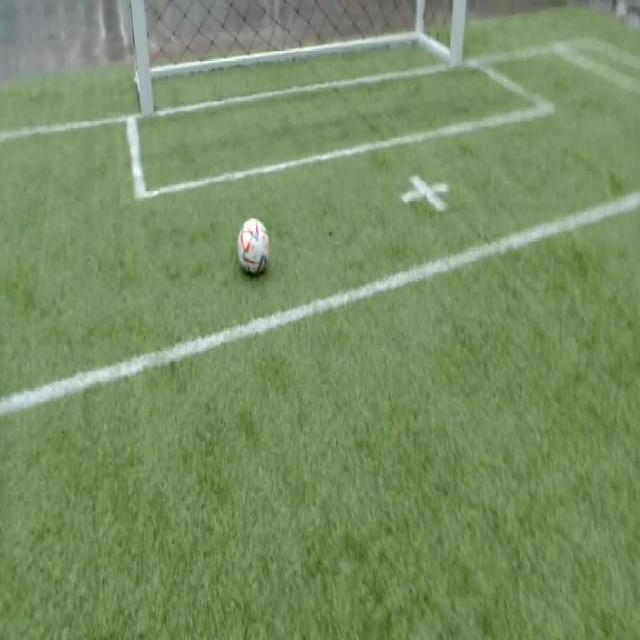ball: (238, 218, 269, 272)
goalpost: (138, 64, 158, 125), (448, 25, 466, 75)
